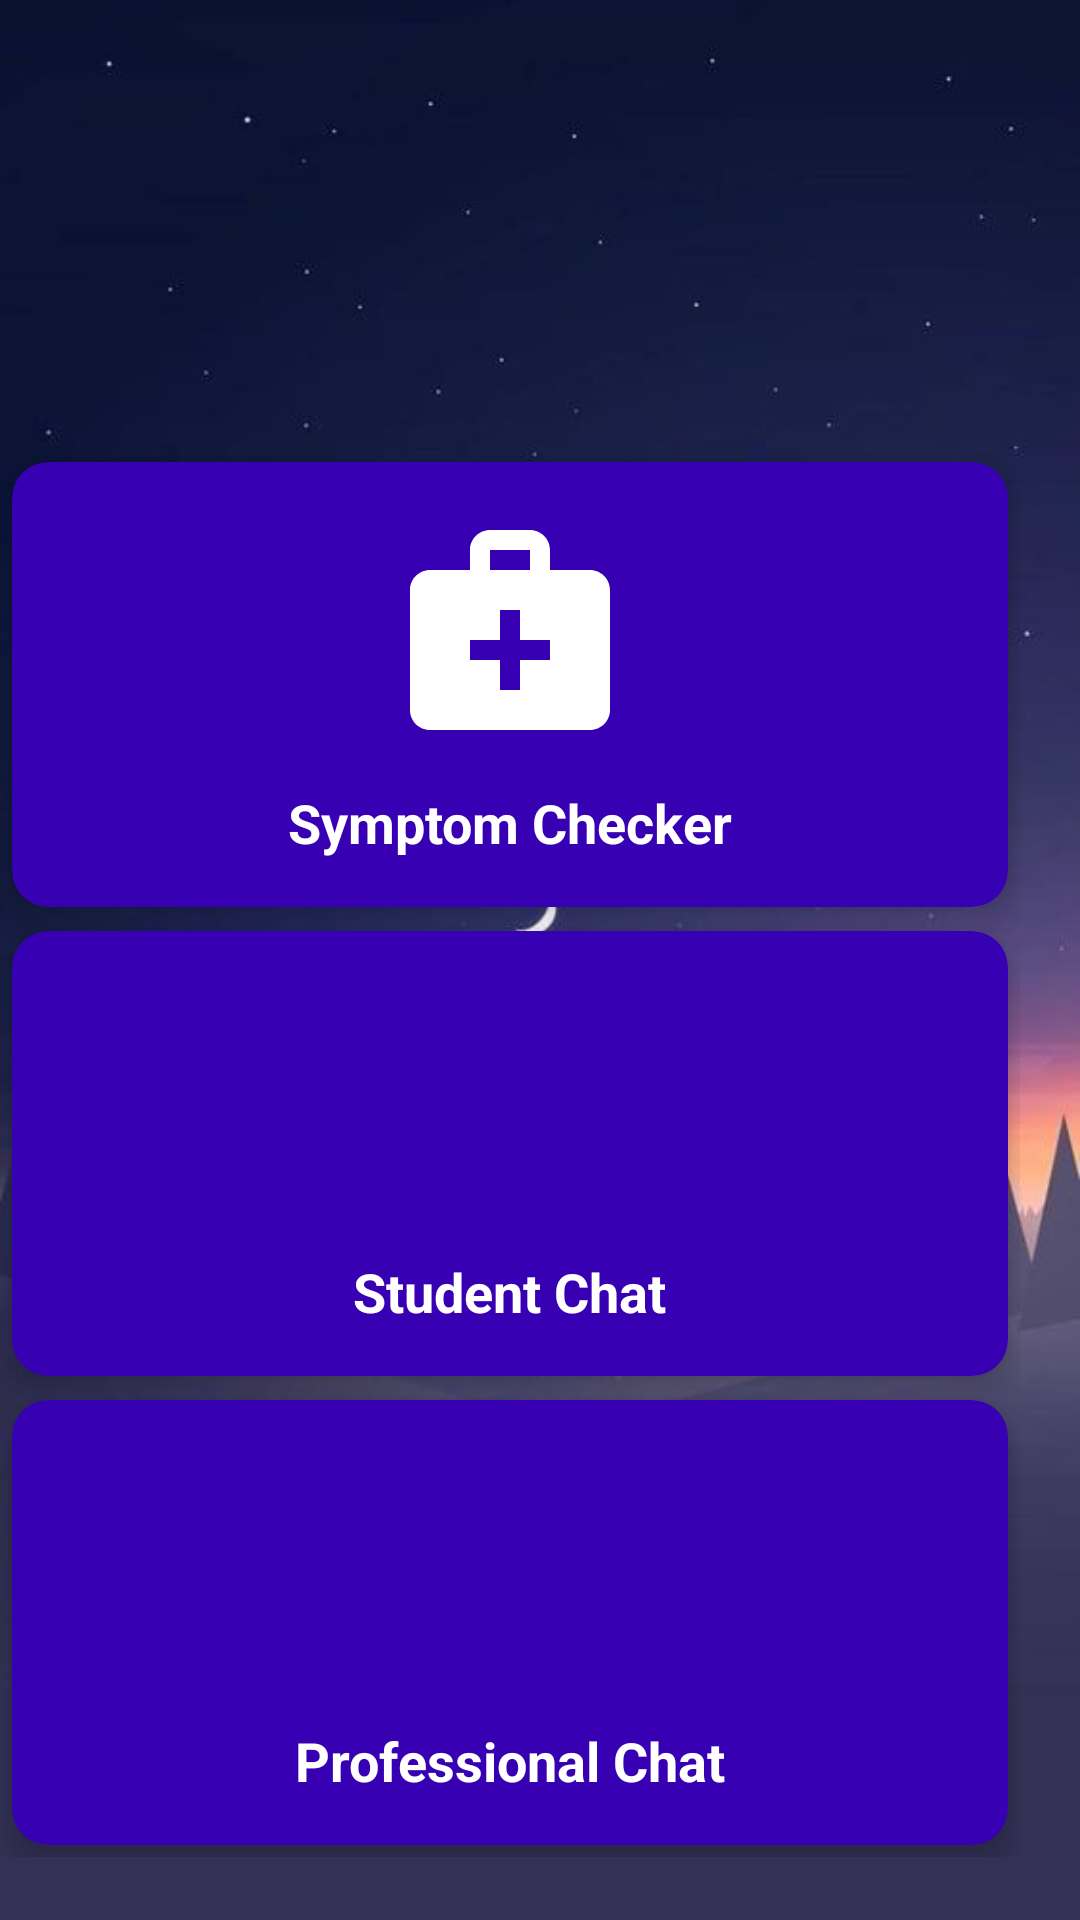

Locate icon controls on the screen. Image size 1080 x 1920, boxes as box=[x1, y1, x2, y2].
medical services: box=[410, 530, 610, 730]
